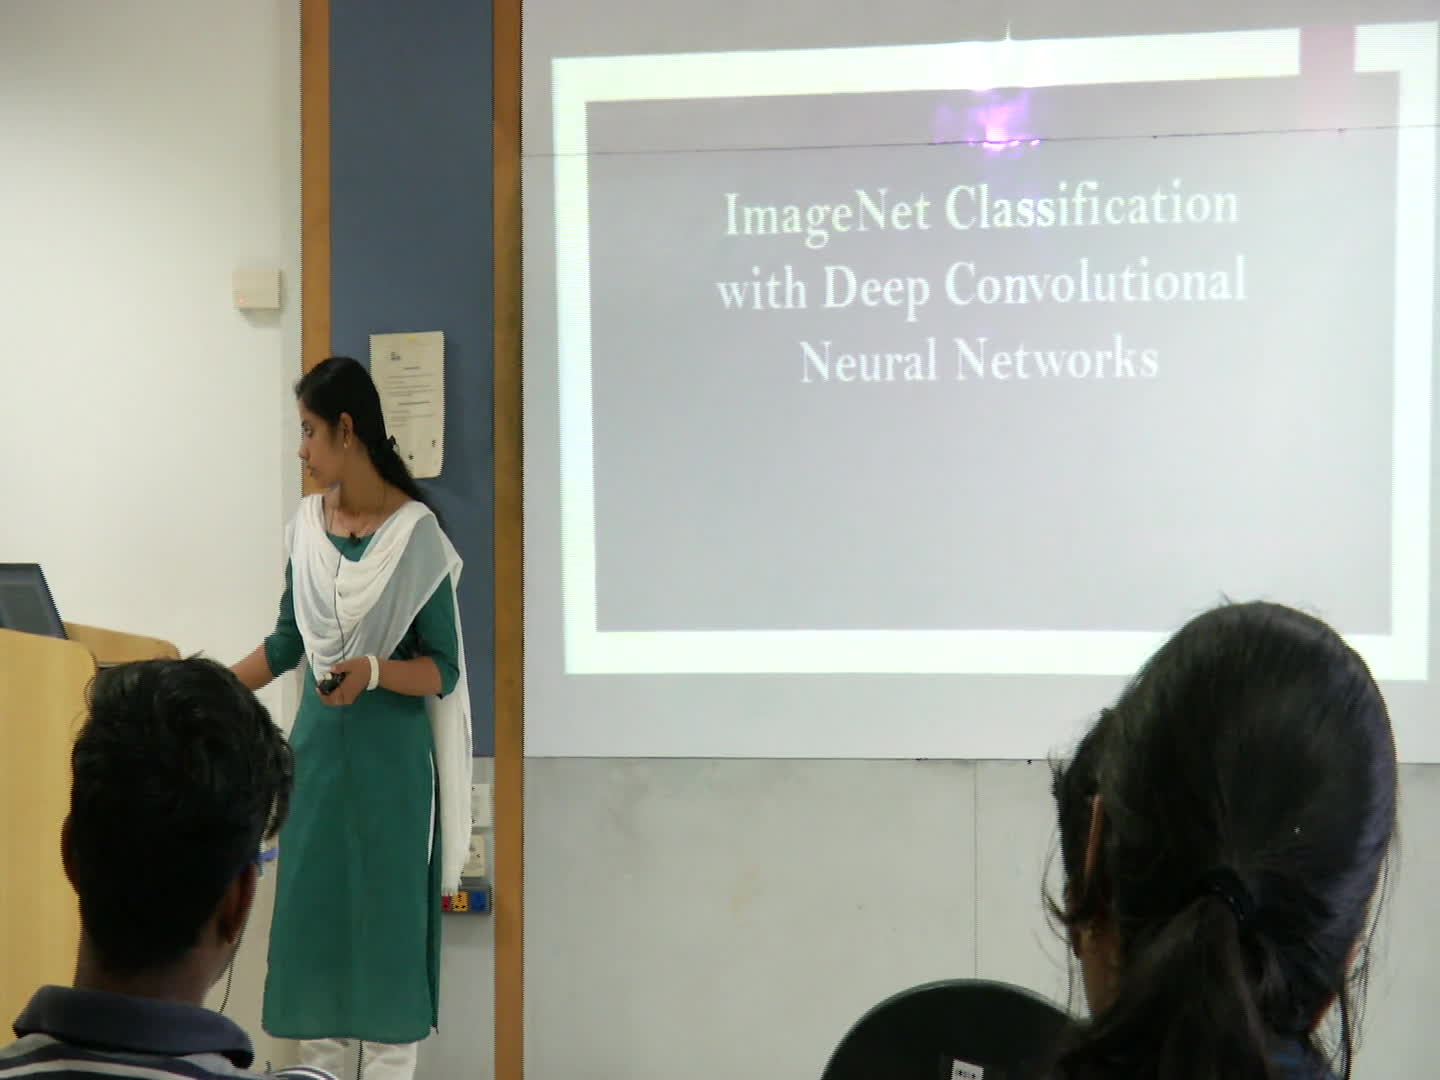slide: (552, 22, 1429, 680)
